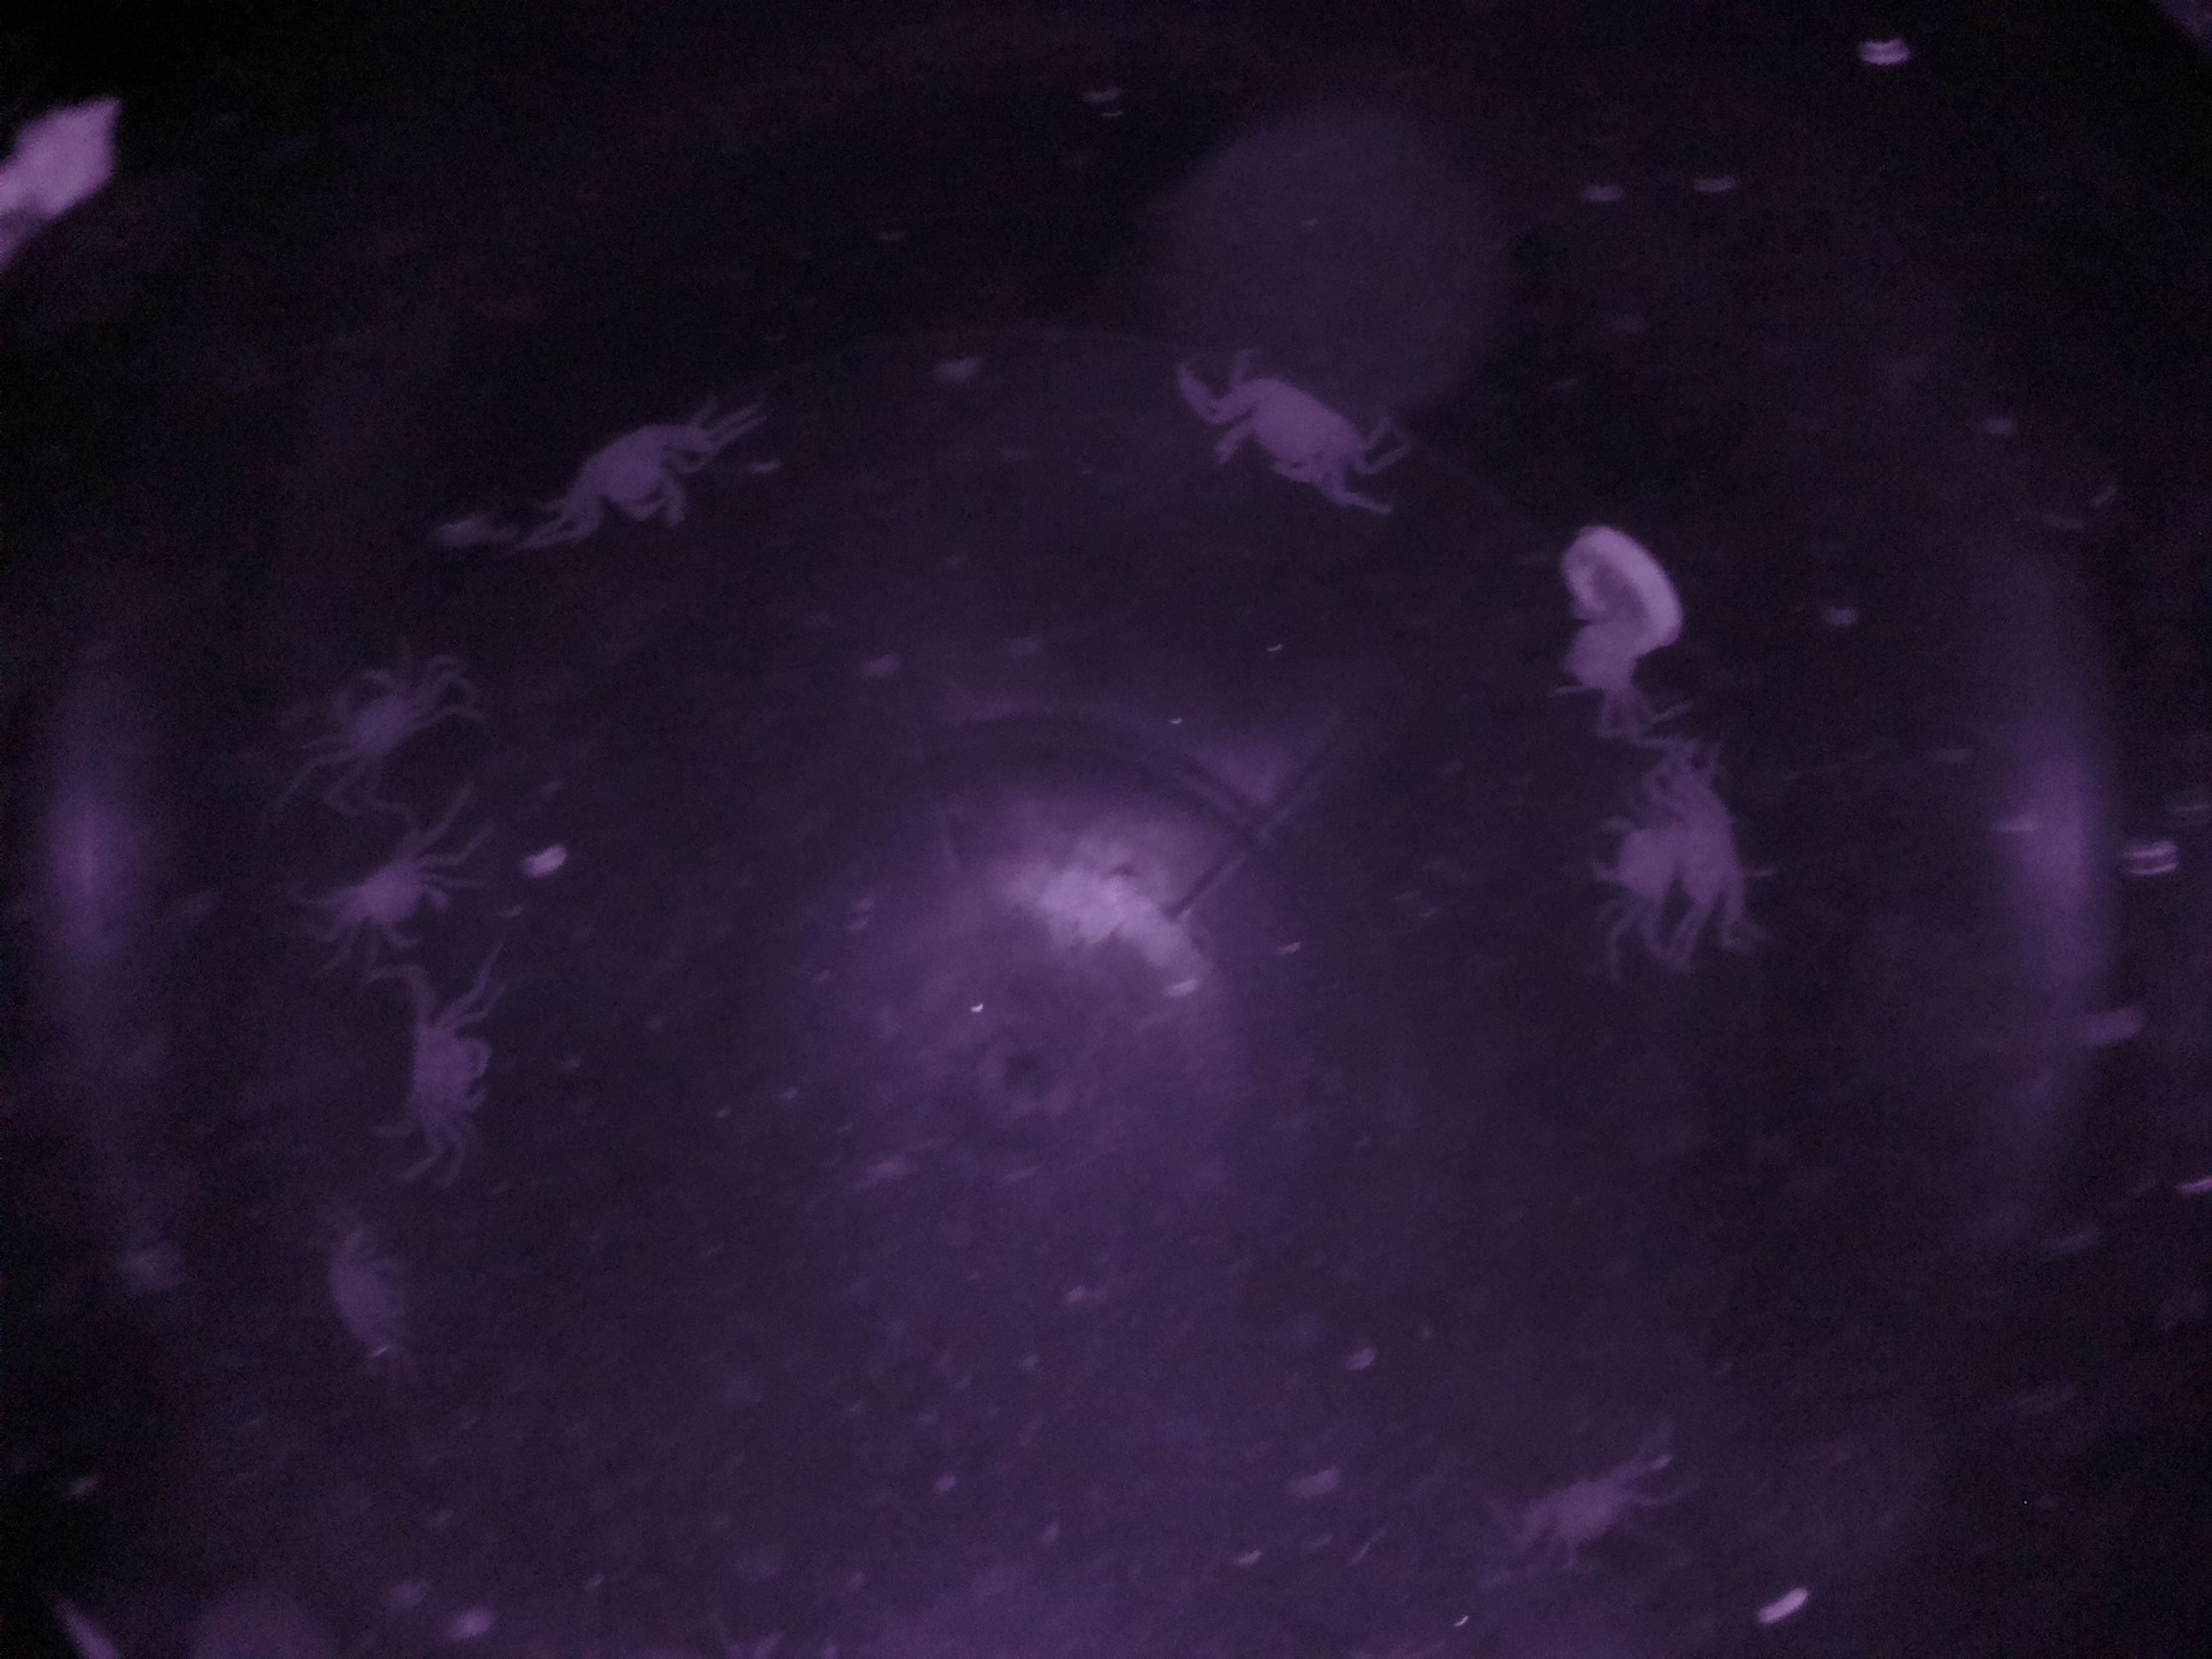Crab: (1184, 317, 1381, 526), (282, 629, 484, 810), (521, 390, 719, 556), (366, 979, 517, 1176), (326, 824, 479, 953)
